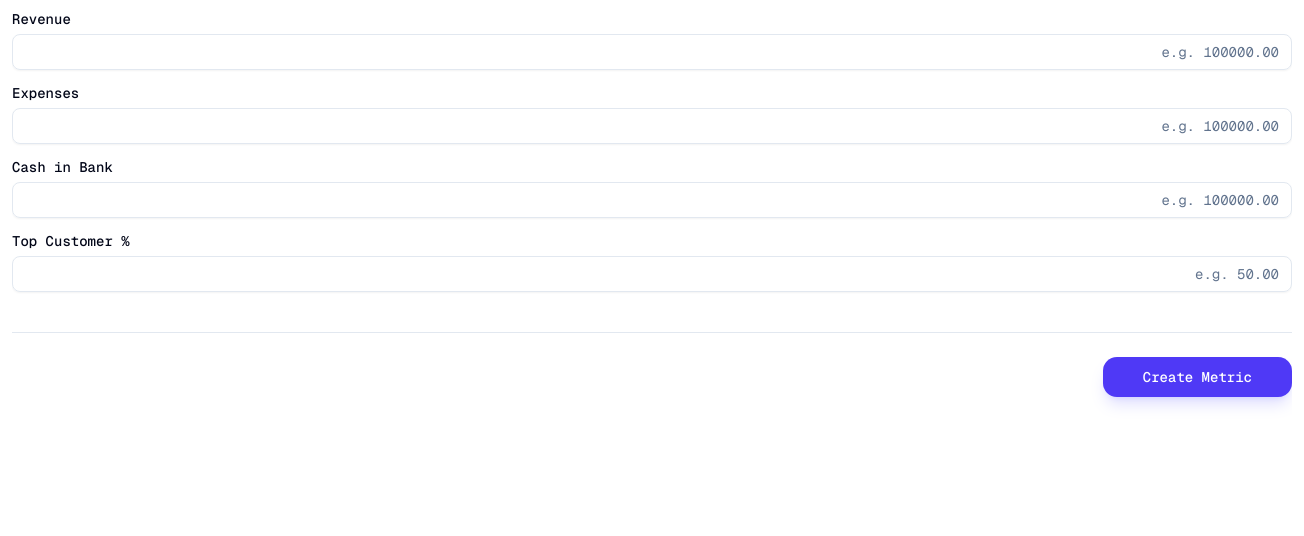
Test: CreateMetricForm › when form is submitted › when values are invalid › error messages are shown
Type "100000" into the field with test id "metric-revenue" at (652, 52), box [12,34,1292,70]
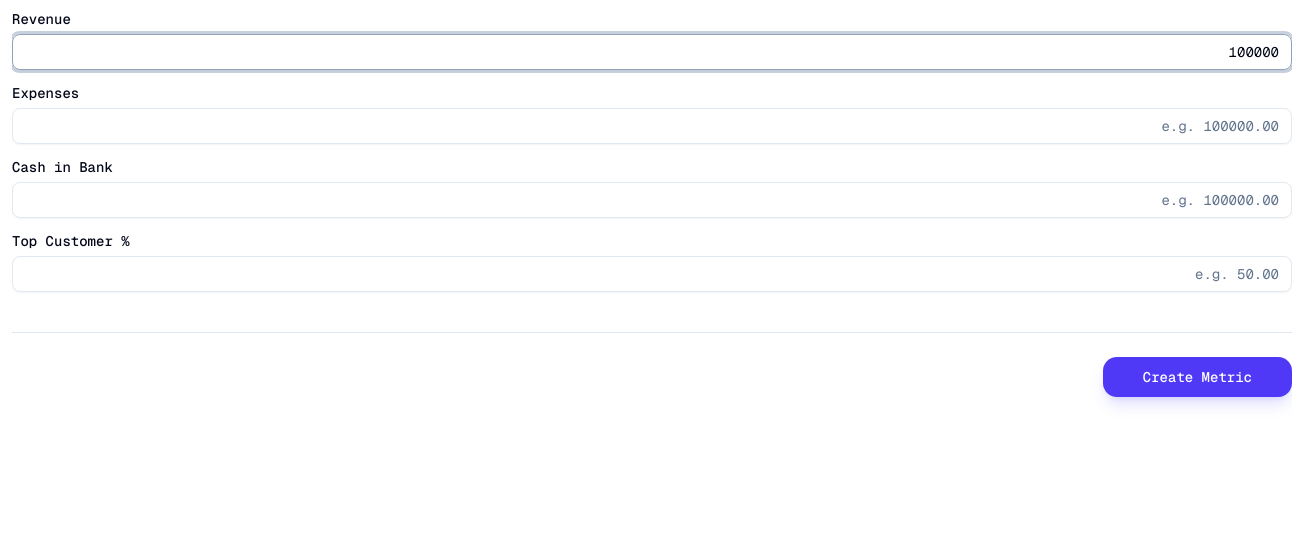
Type "50000" into the field with test id "metric-expenses" at (652, 126), box [12,108,1292,144]
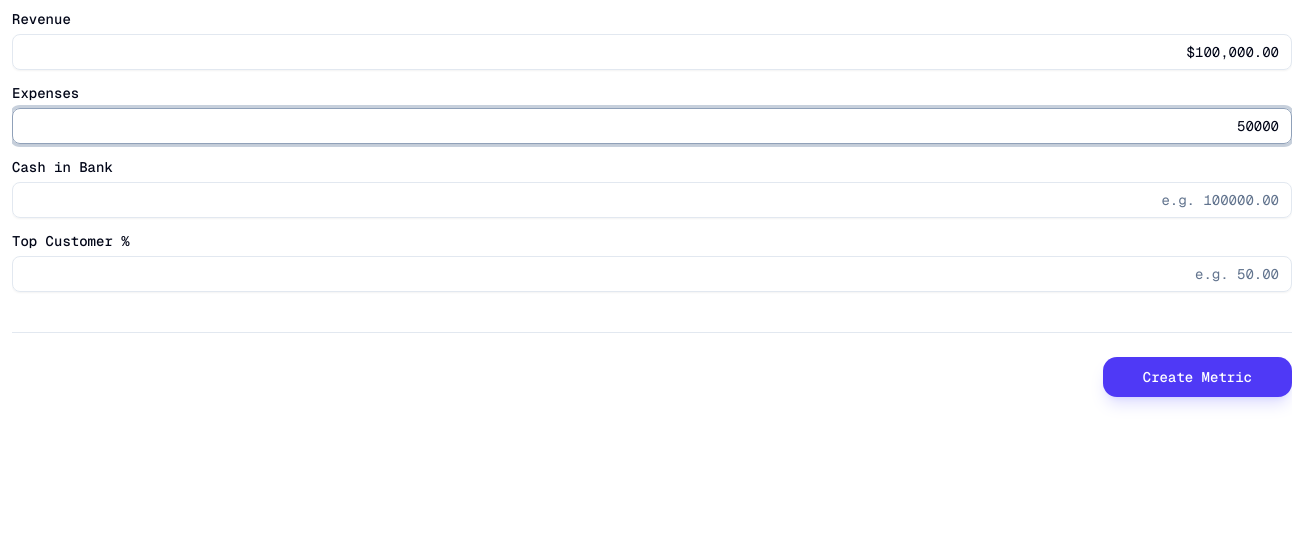
Type "25000" into the field with test id "metric-cash-in-bank" at (652, 200), box [12,182,1292,218]
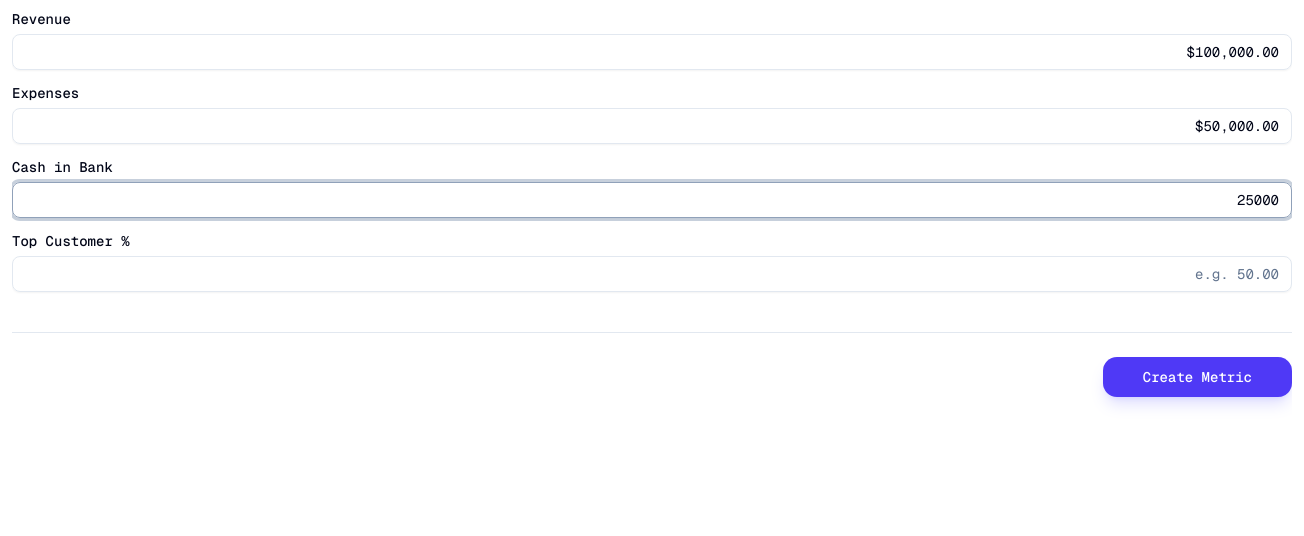
Type "50" into the field with test id "metric-top-customer-pct" at (652, 274), box [12,256,1292,292]
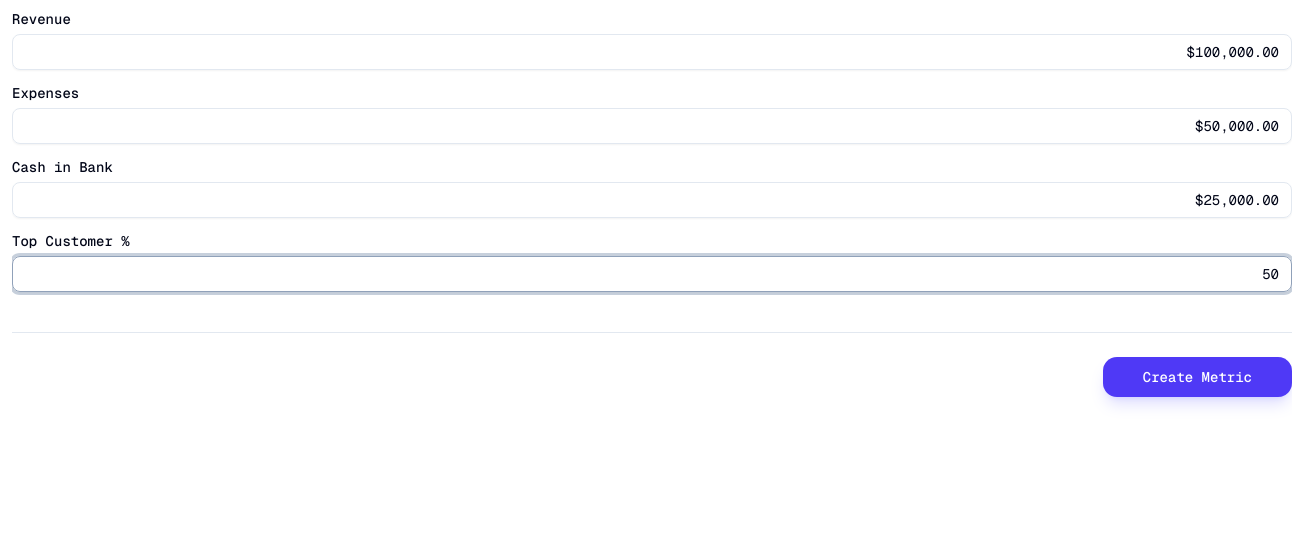
Click the button with test id "metric-button" at (1197, 377), box [1103,357,1292,397]
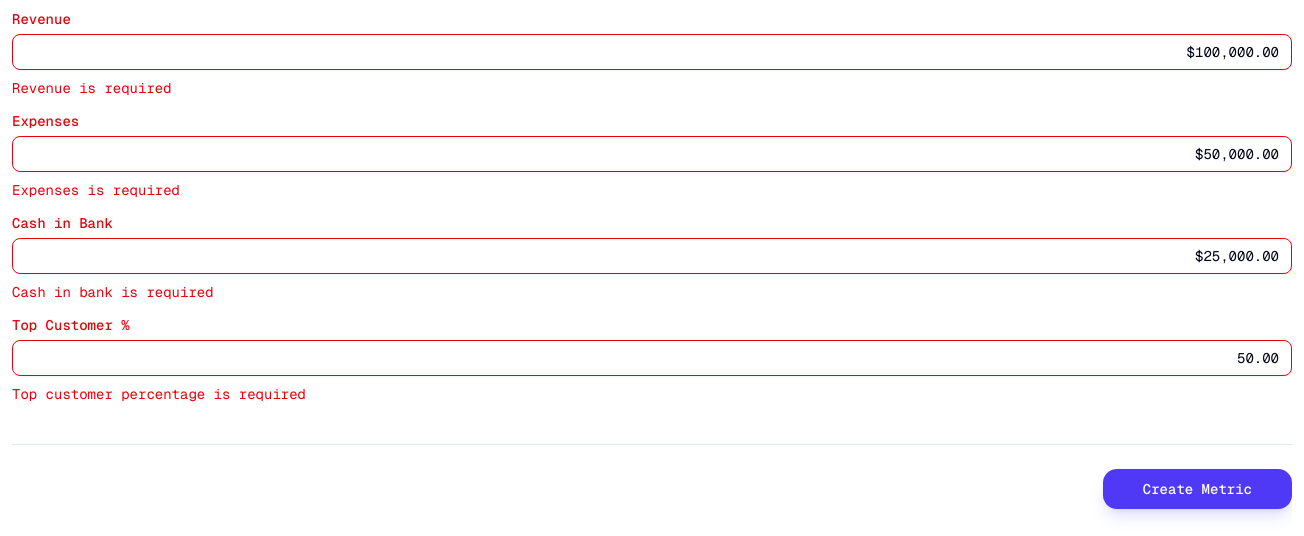
Result: the text with test id "metric-revenue-error" reads "Revenue is required" at [12,79,172,97]
Result: the text with test id "metric-expenses-error" reads "Expenses is required" at [12,181,180,199]
Result: the text with test id "metric-cash-in-bank-error" reads "Cash in bank is required" at [12,283,214,301]
